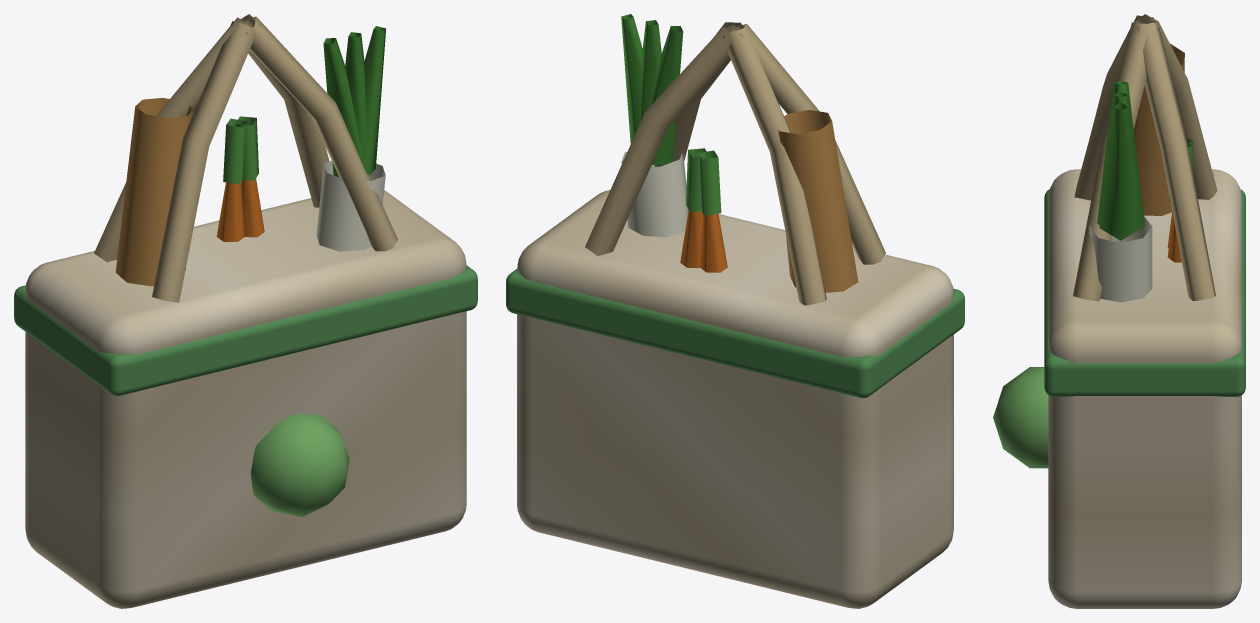
Rendered from style_grocery.glb.
The picture shows the model from 3 angles, left to right: view 1: azimuth 30°, elevation 25°; view 2: azimuth 150°, elevation 25°; view 3: azimuth 270°, elevation 25°; orthographic projection. The views are drawn at different scales.
Visible parts, largest first — view 1: style_grocery_main; view 2: style_grocery_main; view 3: style_grocery_main.
Part boxes in pixels (left/top/right/bottom): style_grocery_main: left=14, top=14, right=477, bottom=608; style_grocery_main: left=506, top=14, right=964, bottom=608; style_grocery_main: left=993, top=14, right=1245, bottom=608.
Bounding box in the file's own units: 0.1717 × 0.2336 × 0.1044.
